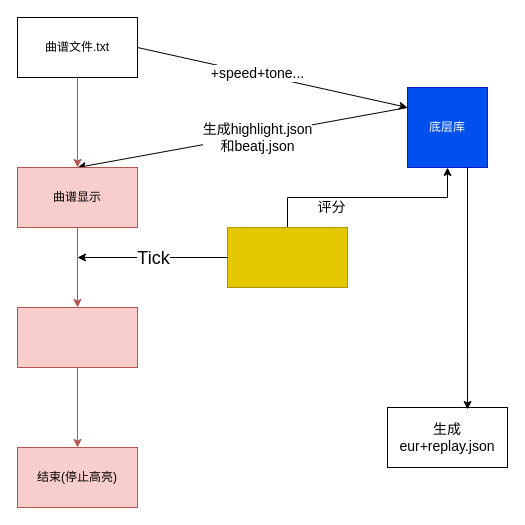
Some shapes in this 525 by 525 pixel diagram are drawn without their labels. Each missing label, with the centre of its shape:
音频播放时间: point 287,257
高亮走字: point 77,337
